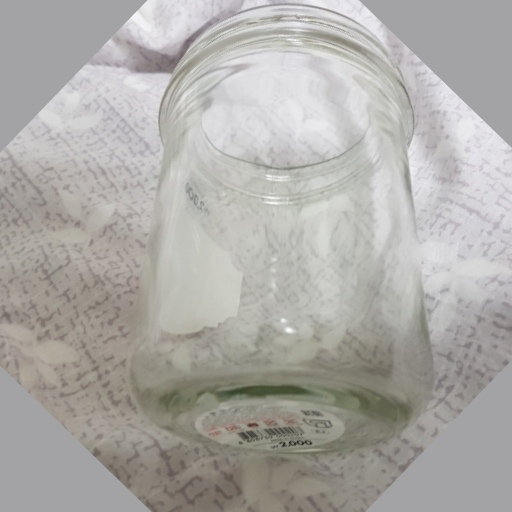Glass_5: (144, 6, 434, 453)
